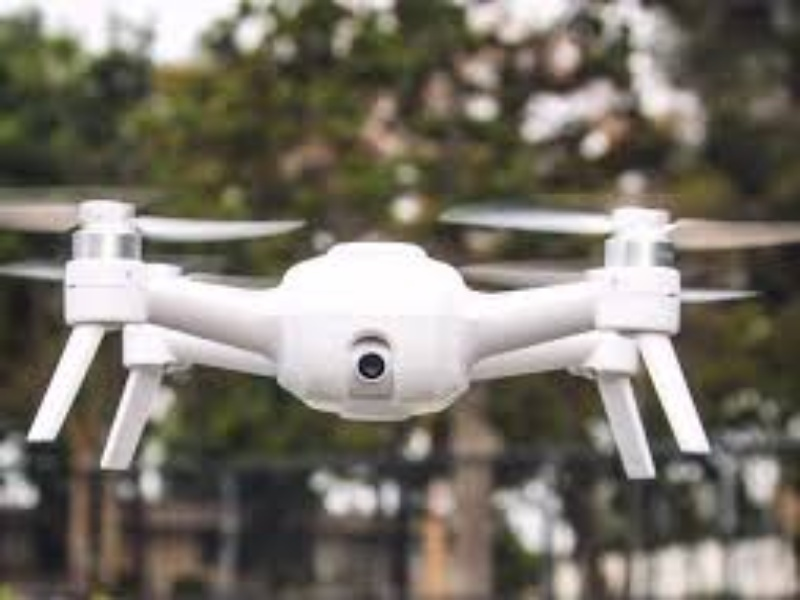drone: (5, 184, 755, 480)
